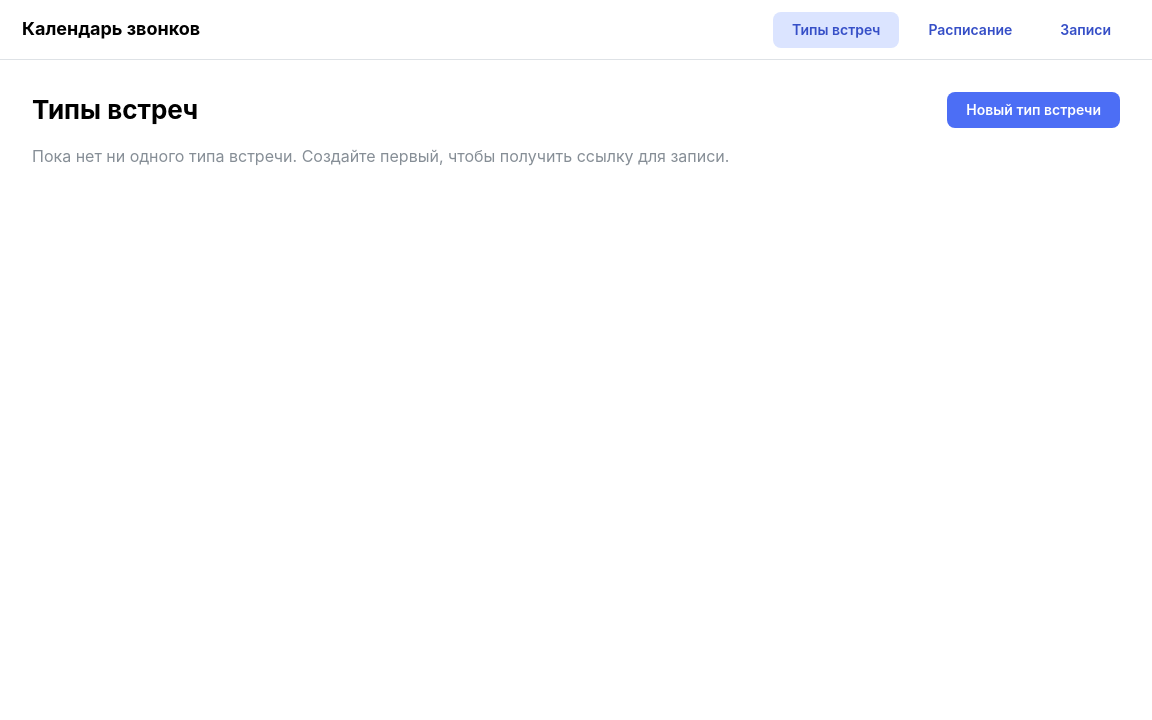
Test: EventTypesPage › shows a slug error when the slug is already taken
This screenshot has width=1152, height=720.
Click the button "Новый тип встречи" at (1034, 110), box top-left (947, 92), bottom-right (1120, 128)
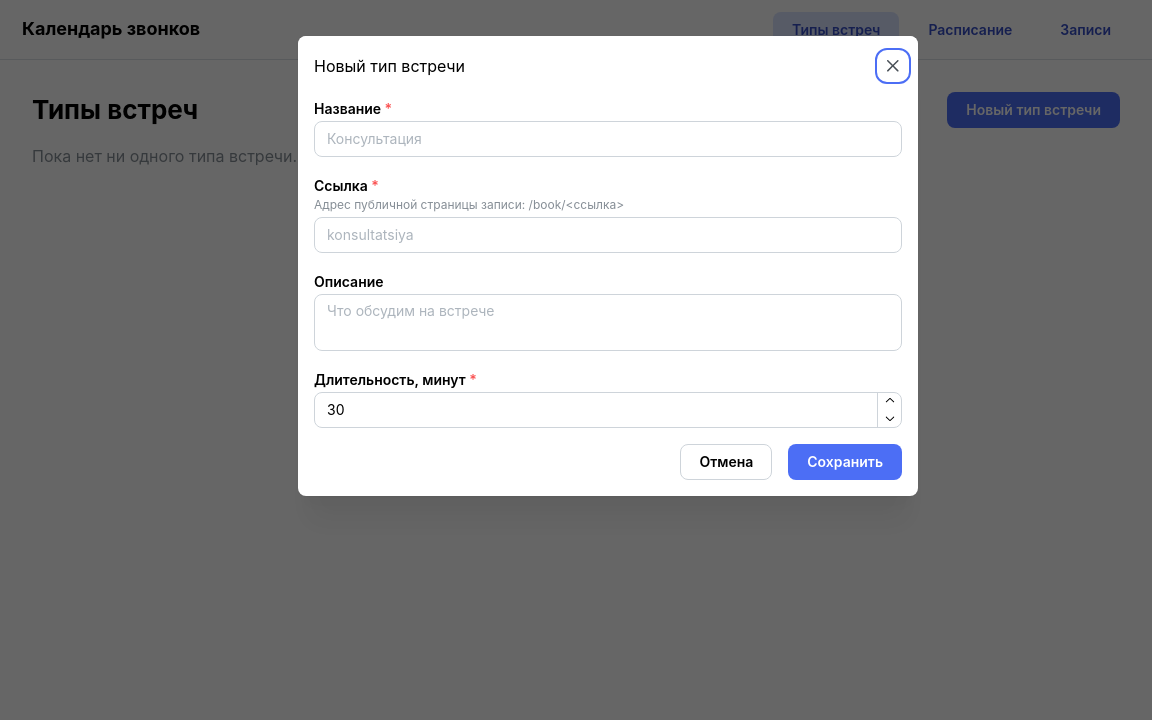
Type "Consultation" into the field labelled "Название *" at (608, 139), box top-left (314, 121), bottom-right (902, 157)
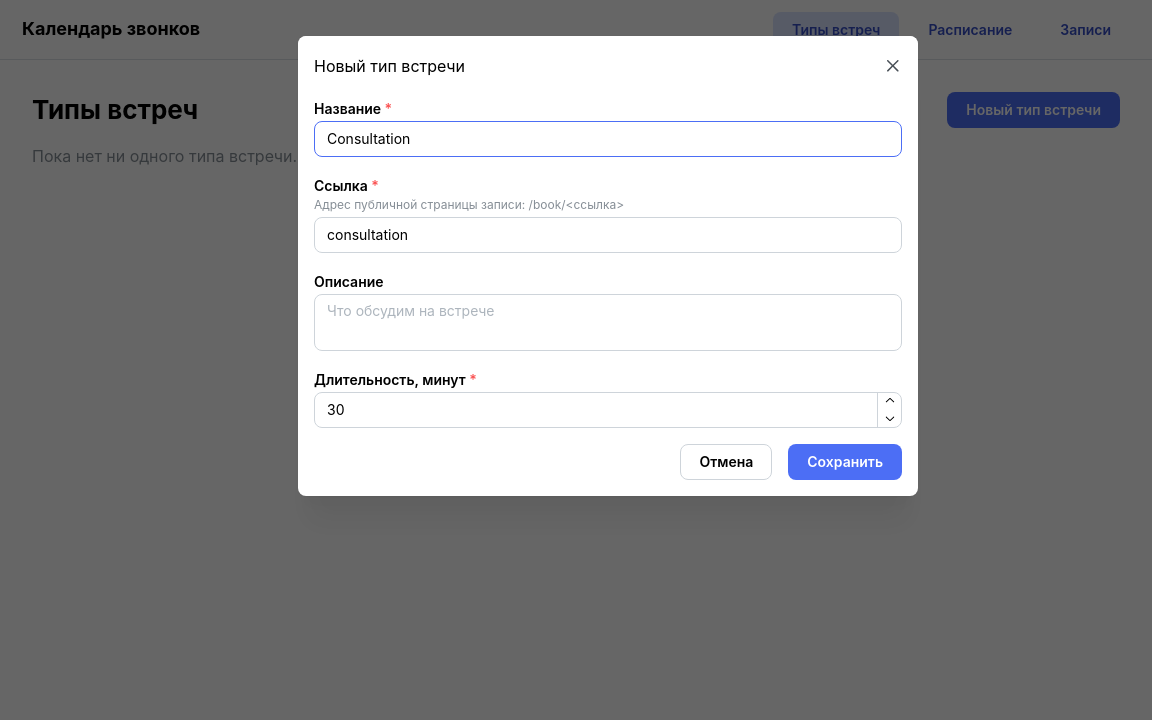
Click the button "Сохранить" at (845, 462), box top-left (788, 444), bottom-right (902, 480)
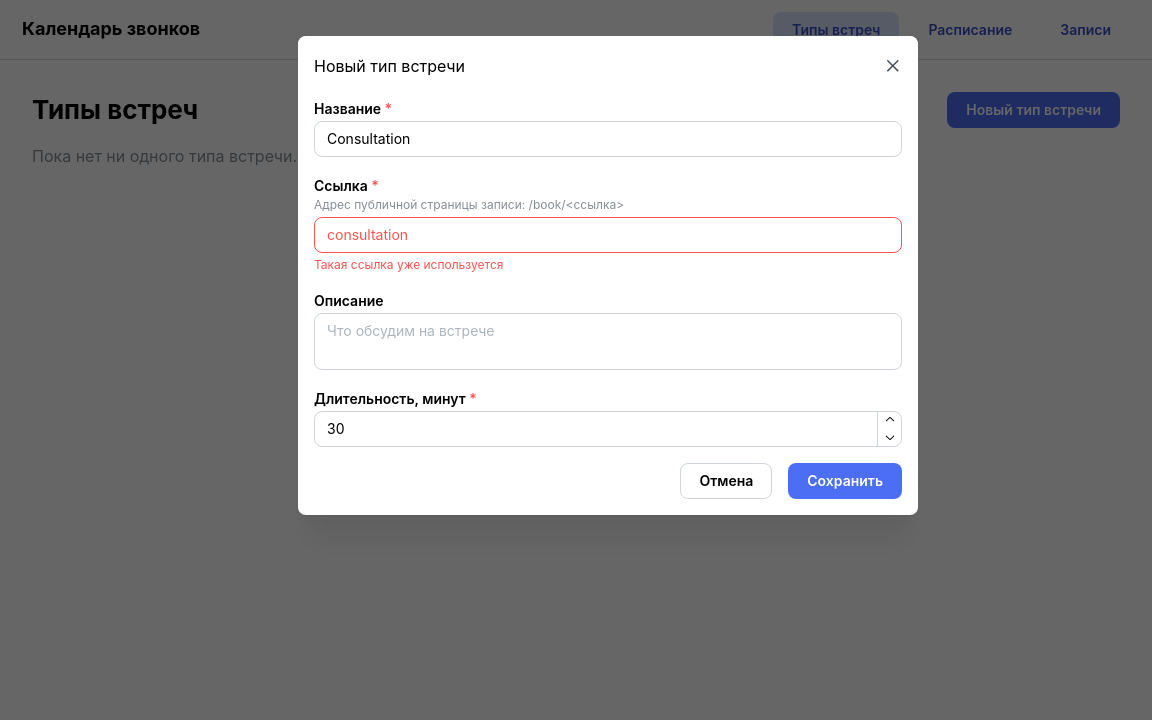
Check: the text "Такая ссылка уже используется" is shown, box top-left (314, 257), bottom-right (504, 272)
